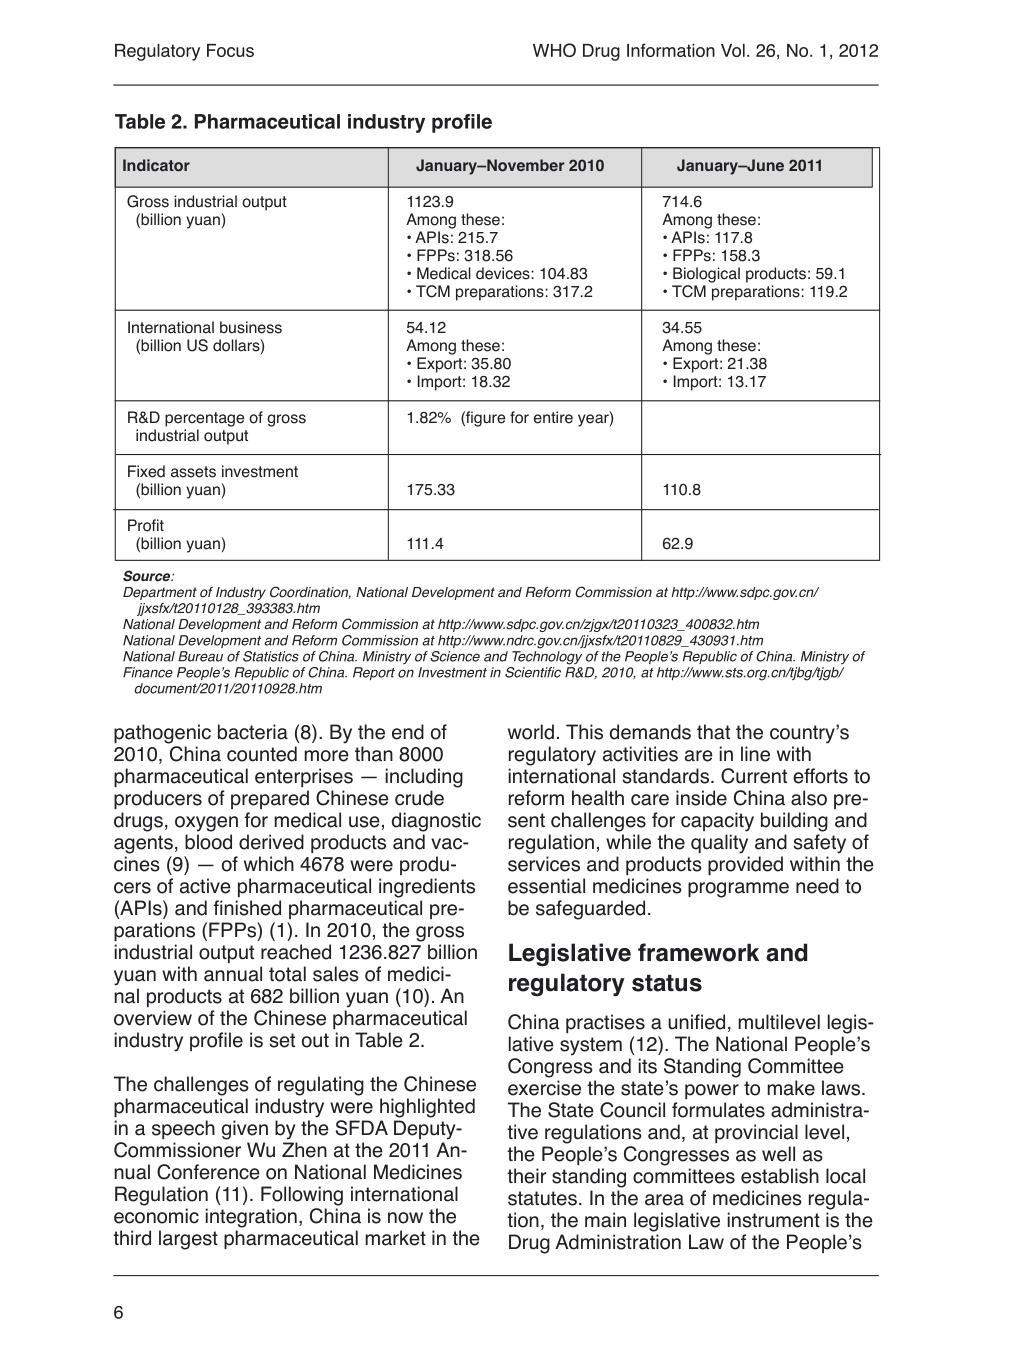full_lined: (110, 142, 884, 563)
